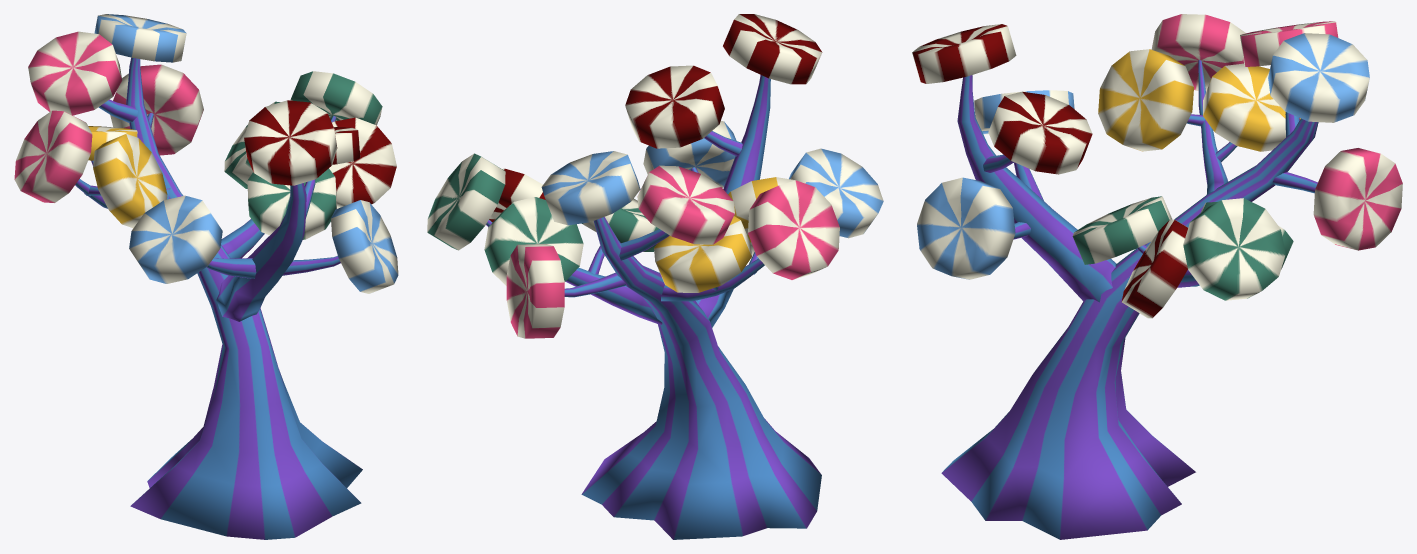
Rendered from tree_candy3.fbx.
3 views of the same model, side by side, from view 1: azimuth 30°, elevation 25°; view 2: azimuth 150°, elevation 25°; view 3: azimuth 270°, elevation 25° (orthographic). The views are drawn at different scales.
Parts seen in each view (by area): view 1: tree_candy3; view 2: tree_candy3; view 3: tree_candy3.
Boxes of the visible parts, bbox=[...] form: tree_candy3: bbox=[14, 14, 398, 539]; tree_candy3: bbox=[427, 14, 883, 539]; tree_candy3: bbox=[912, 14, 1402, 539].
Bounding box in the file's own units: 784 × 846 × 828.
